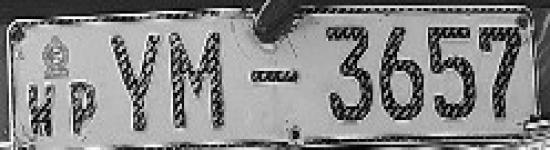-: (247, 63, 304, 89)
3: (323, 20, 376, 128)
5: (428, 23, 478, 122)
6: (378, 23, 426, 125)
7: (478, 22, 526, 125)
M: (166, 26, 229, 135)
P: (66, 79, 102, 139)
W: (23, 82, 58, 139)
Y: (105, 27, 164, 137)
